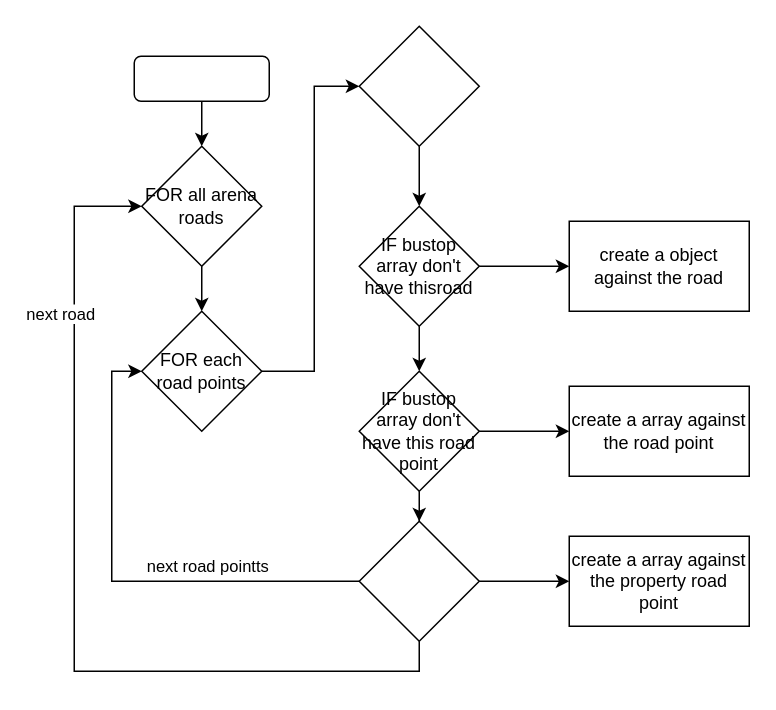
Image size: 776x710. Some labels were removed from this diagram. Each missing label, with the centre of its shape:
"IF bustop property array don't have this road point" belongs at [418,580].
"IF road point is busstop or supply drop" belongs at [418,85].
"start" belongs at [201,78].
